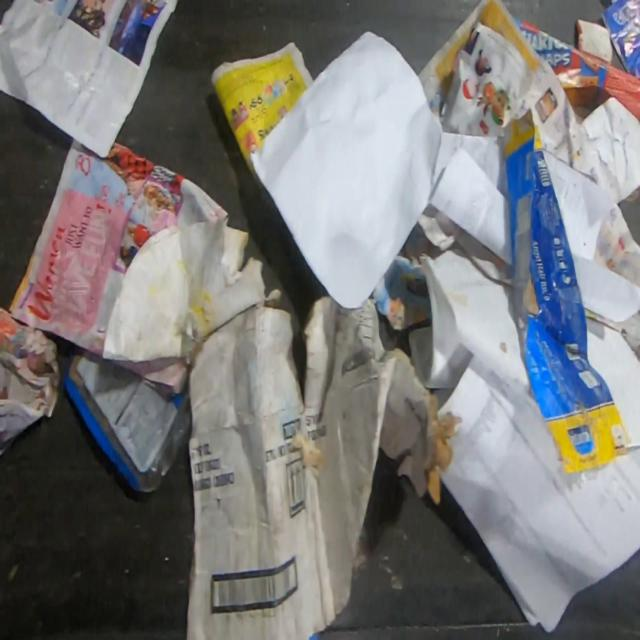cardboard: (185, 288, 464, 639), (496, 107, 634, 476), (513, 16, 639, 123)
soft_plastic: (62, 344, 189, 494)
